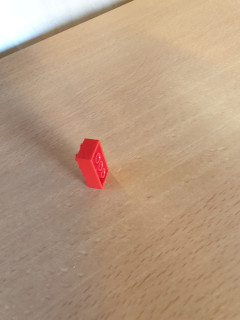2x4 red: (74, 138, 110, 189)
